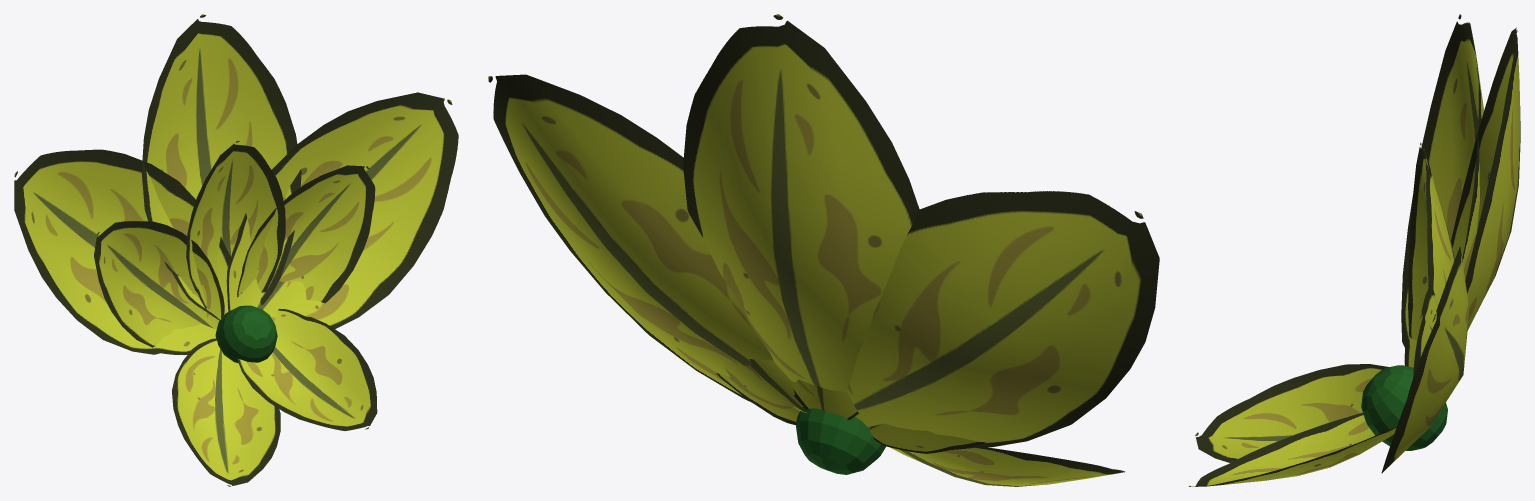
Rendered from Kaki Kiri Alyssia.fbx.
The picture shows the model from 3 angles, left to right: view 1: azimuth 30°, elevation 25°; view 2: azimuth 150°, elevation 25°; view 3: azimuth 270°, elevation 25°; orthographic projection. The views are drawn at different scales.
Parts seen in each view (by area): view 1: Kaki Alyssia; view 2: Kaki Alyssia; view 3: Kaki Alyssia.
Boxes of the visible parts, <box> form: Kaki Alyssia: <box>14,14,458,486</box>; Kaki Alyssia: <box>488,14,1159,486</box>; Kaki Alyssia: <box>1188,14,1520,486</box>.
Bounding box in the file's own units: 16.46 × 13.02 × 8.34.
